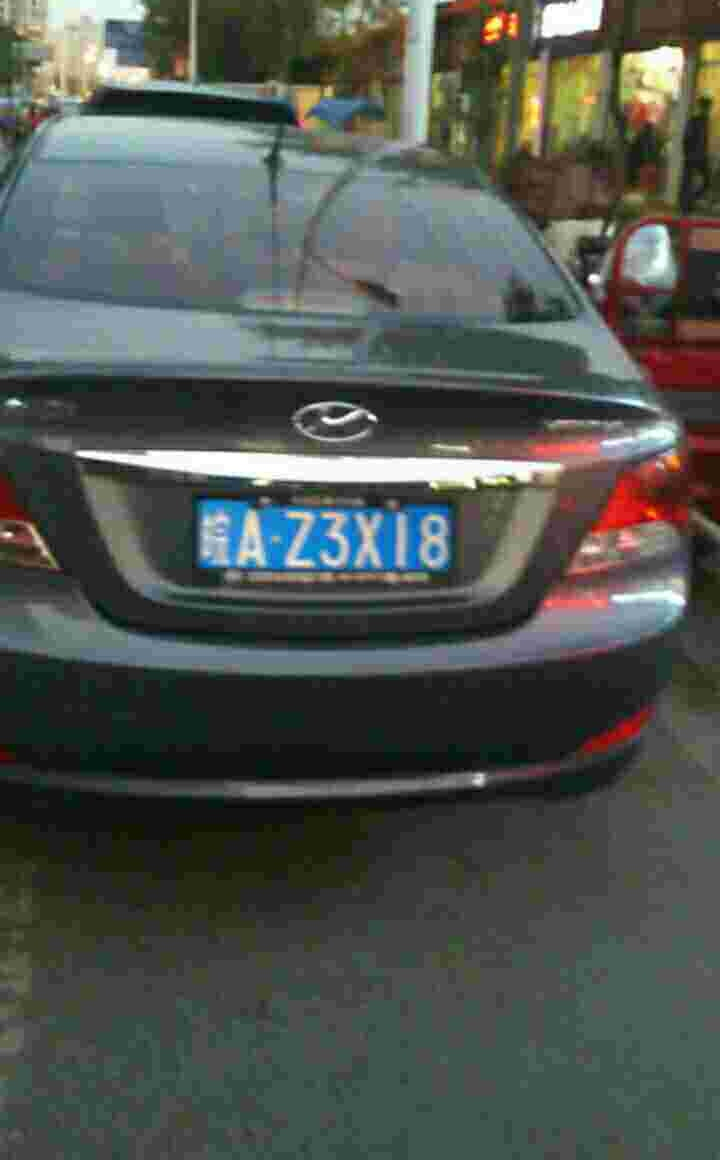license_plate: (196, 498, 454, 572)
